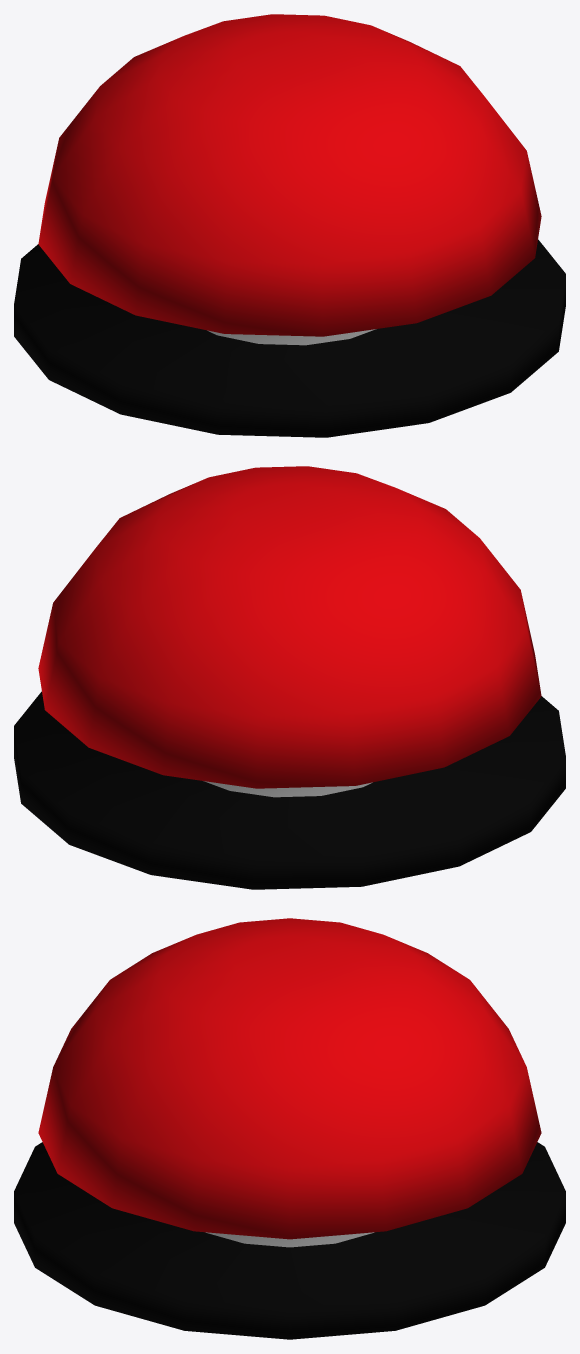
File: luces.fbx
3 renders of one model, top to bottom at view 1: azimuth 30°, elevation 25°; view 2: azimuth 150°, elevation 25°; view 3: azimuth 270°, elevation 25°, orthographic.
Visible parts, largest first — view 1: Cylinder.001, Cylinder; view 2: Cylinder.001, Cylinder; view 3: Cylinder.001, Cylinder.
Part boxes in pixels (bbox=[...]): Cylinder.001: bbox=[38, 14, 541, 336]; Cylinder: bbox=[14, 239, 565, 437]; Cylinder.001: bbox=[38, 466, 541, 788]; Cylinder: bbox=[14, 691, 565, 889]; Cylinder.001: bbox=[38, 918, 541, 1239]; Cylinder: bbox=[14, 1142, 565, 1339].
Size of the model in its own units: 463 by 243 by 463.
